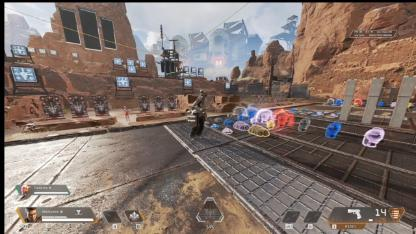Target: (191, 90, 209, 135)
